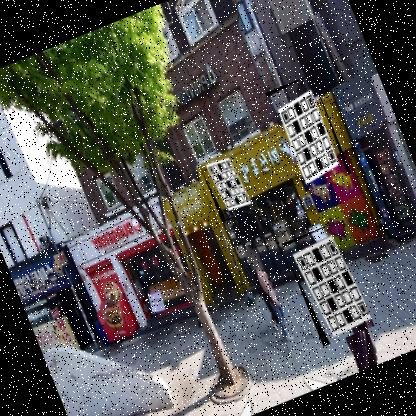qncode: (280, 223, 375, 348), (264, 73, 352, 193), (197, 147, 254, 222)
